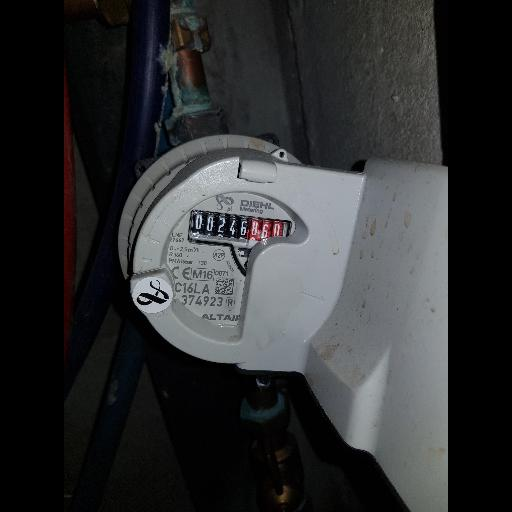0: (203, 212, 218, 236), (191, 211, 205, 235), (272, 220, 285, 238)
2: (216, 213, 229, 237)
4: (226, 215, 240, 239)
6: (259, 219, 274, 242), (237, 217, 250, 240)
8: (247, 217, 261, 241)
border_water_meter_number: (187, 209, 292, 255)
